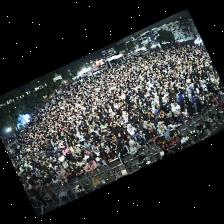person: (117, 145, 130, 168), (171, 102, 182, 122), (103, 149, 116, 163), (146, 127, 158, 142), (154, 114, 164, 131), (129, 141, 141, 155), (165, 118, 179, 130), (163, 99, 172, 117), (72, 164, 85, 176), (155, 104, 166, 118), (86, 159, 97, 173), (127, 124, 136, 140), (157, 122, 168, 134), (134, 110, 144, 123), (70, 152, 83, 162), (108, 139, 118, 152), (188, 102, 197, 116), (192, 90, 198, 111), (136, 135, 146, 147), (199, 90, 207, 105), (143, 121, 153, 133), (50, 173, 60, 185), (182, 107, 191, 120), (179, 89, 186, 105), (125, 135, 136, 145), (41, 176, 52, 186), (136, 129, 146, 140), (116, 133, 126, 144), (197, 99, 206, 111), (55, 166, 66, 175), (87, 151, 97, 160), (91, 145, 100, 155), (111, 123, 120, 133), (209, 92, 217, 103), (59, 175, 68, 184), (101, 142, 110, 151), (96, 157, 105, 166), (78, 158, 86, 168), (66, 166, 73, 177), (72, 145, 80, 154), (25, 182, 33, 191), (187, 90, 193, 101), (139, 118, 144, 131), (57, 153, 65, 161), (39, 170, 48, 177), (68, 161, 77, 168), (215, 90, 222, 99), (38, 179, 43, 191), (62, 158, 68, 168), (123, 112, 128, 122), (57, 161, 64, 168), (164, 149, 171, 156), (84, 151, 89, 159)
